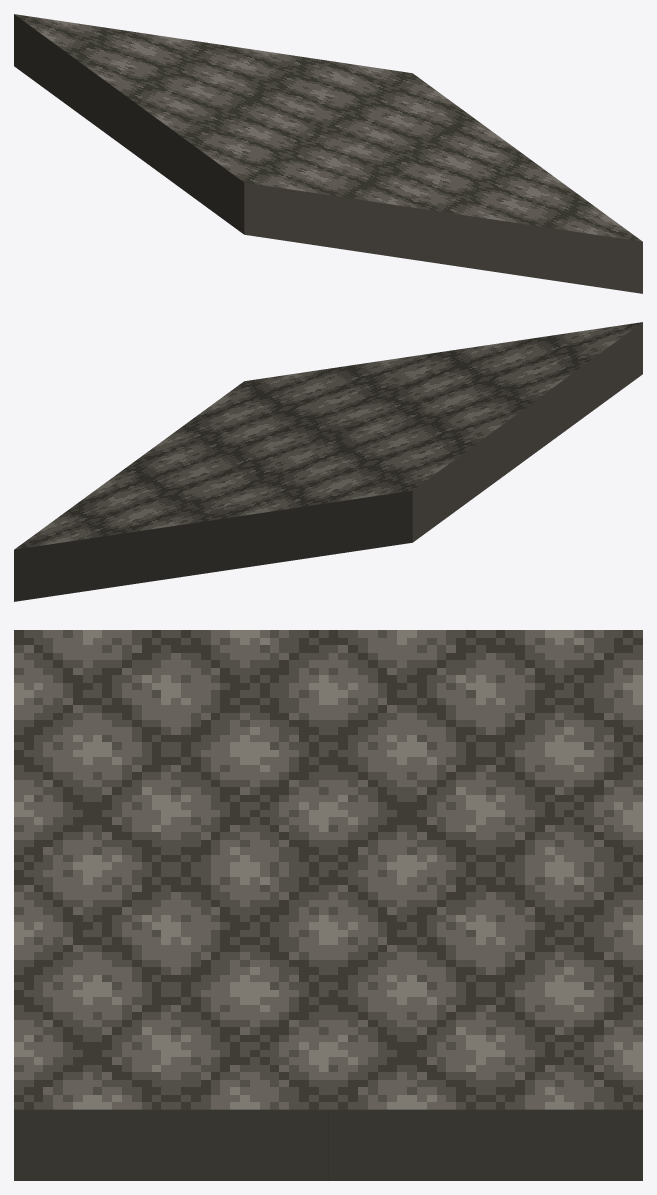
The model's file is Ramp_Long_1.glb.
3 views of the same model, one above another, from view 1: azimuth 30°, elevation 25°; view 2: azimuth 150°, elevation 25°; view 3: azimuth 270°, elevation 25° (orthographic). The views are drawn at different scales.
Parts seen in each view (by area): view 1: Ramp_Long_1; view 2: Ramp_Long_1; view 3: Ramp_Long_1.
Part boxes in pixels (x1,y1,x2,y2): Ramp_Long_1: (14, 14, 642, 293); Ramp_Long_1: (14, 322, 642, 601); Ramp_Long_1: (14, 630, 642, 1180).
Bounding box in the file's own units: 4 × 2 × 4.
Materials: 1 (1 with a texture image).
